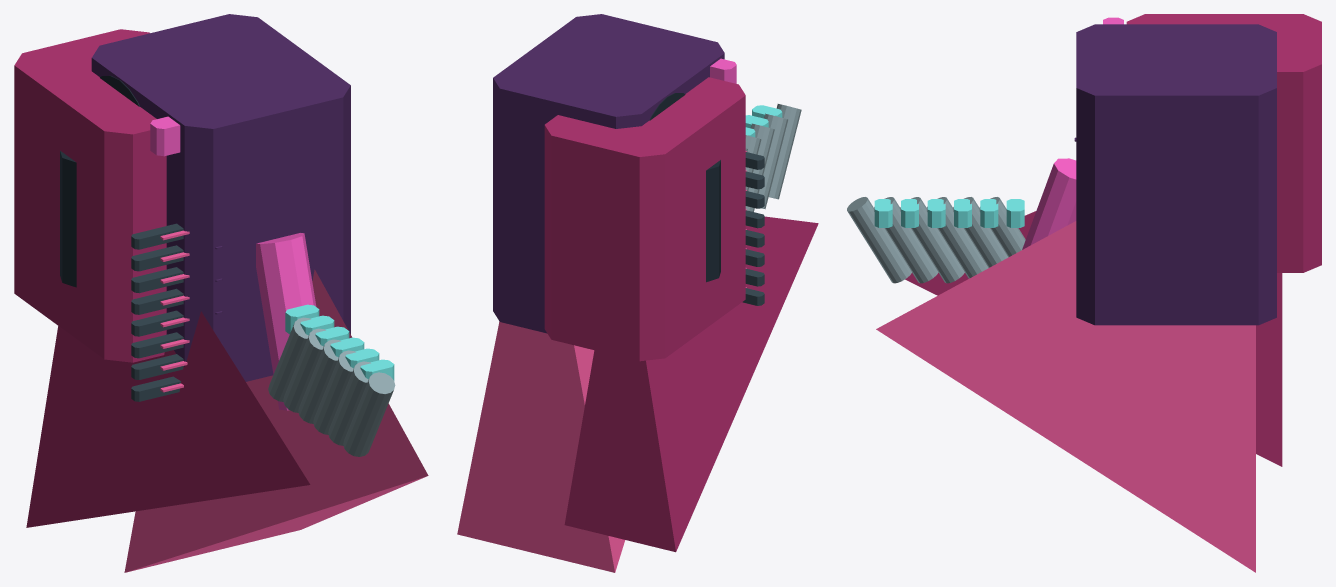
The model's file is enemy_striker_4k_forearm_r.obj.
3 renders of one model, left to right at view 1: azimuth 30°, elevation 25°; view 2: azimuth 150°, elevation 25°; view 3: azimuth 270°, elevation 25°, orthographic. The views are drawn at different scales.
Size of the model in its own units: 0.5116 by 0.96 by 0.8995.
